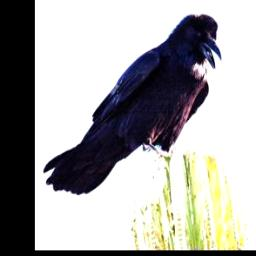Crow: (43, 12, 221, 195)
